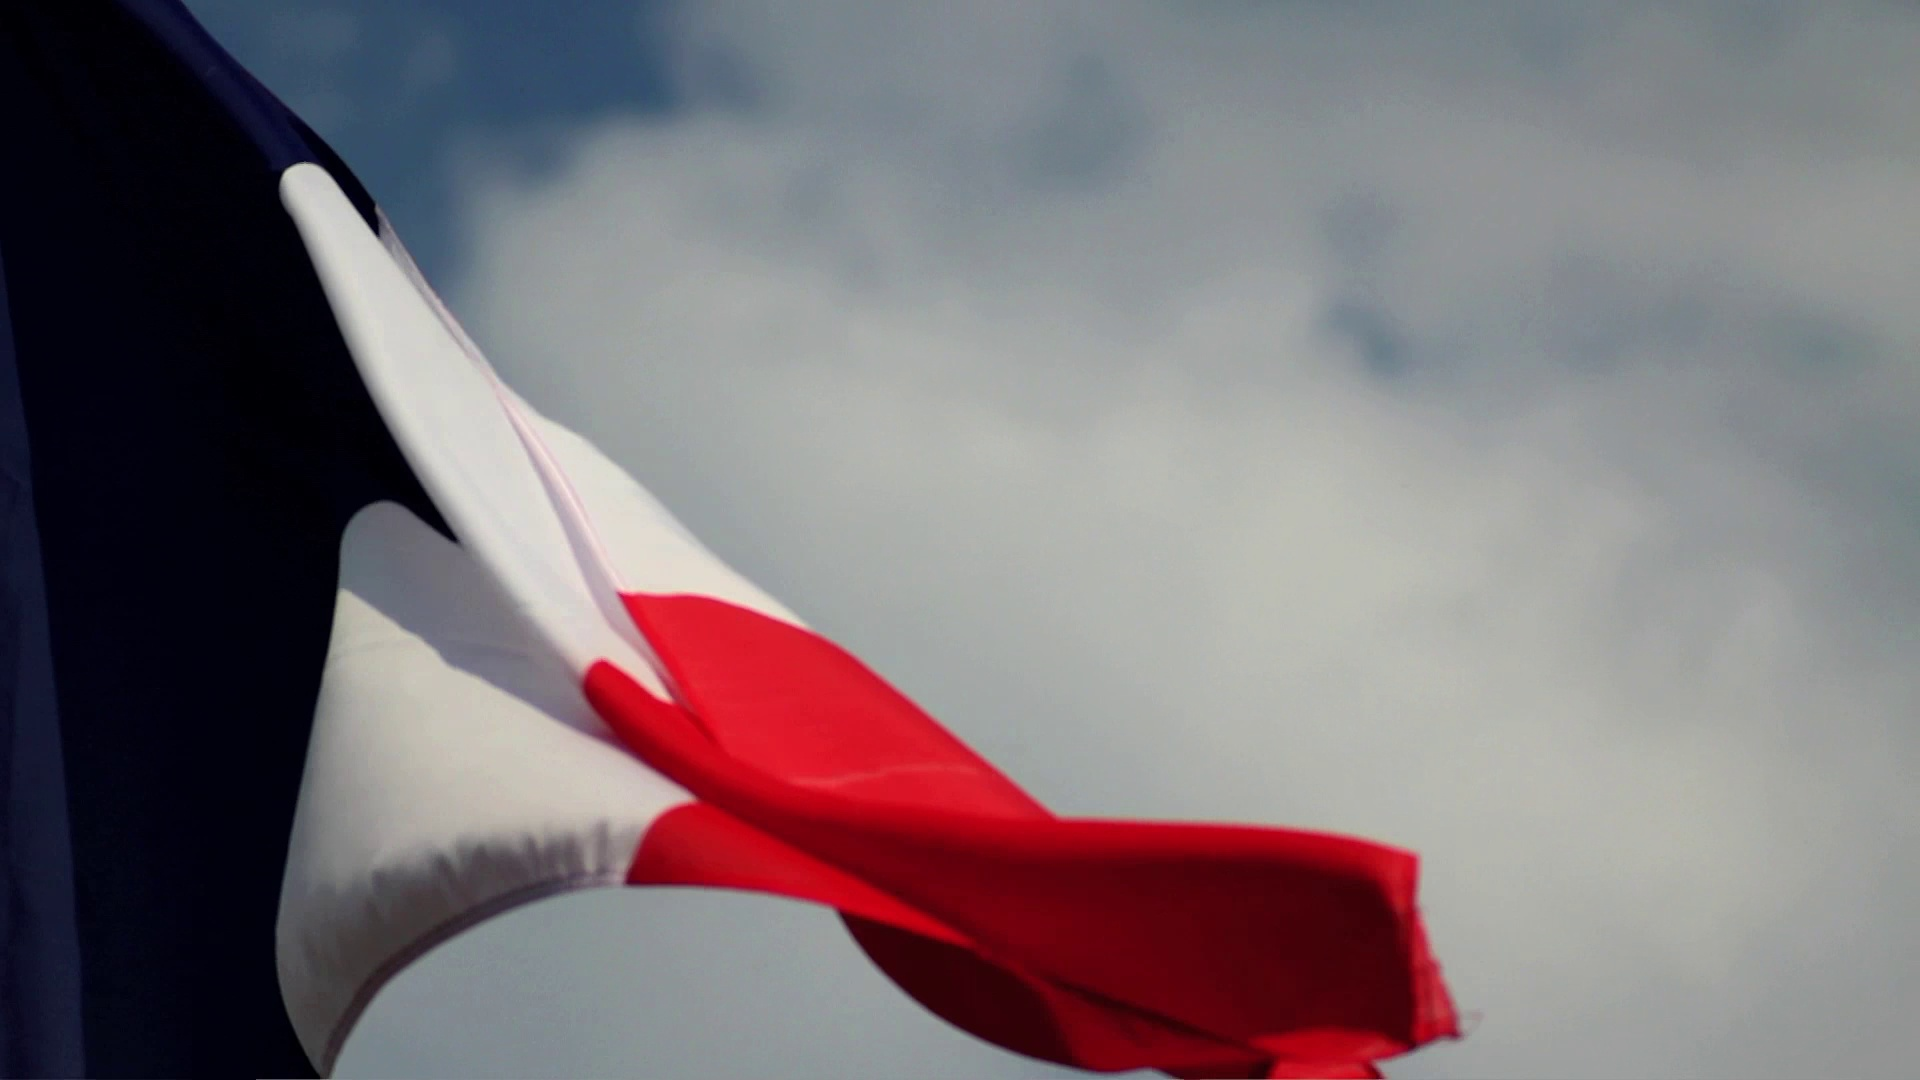French Flag: (1, 1, 1478, 1080)
